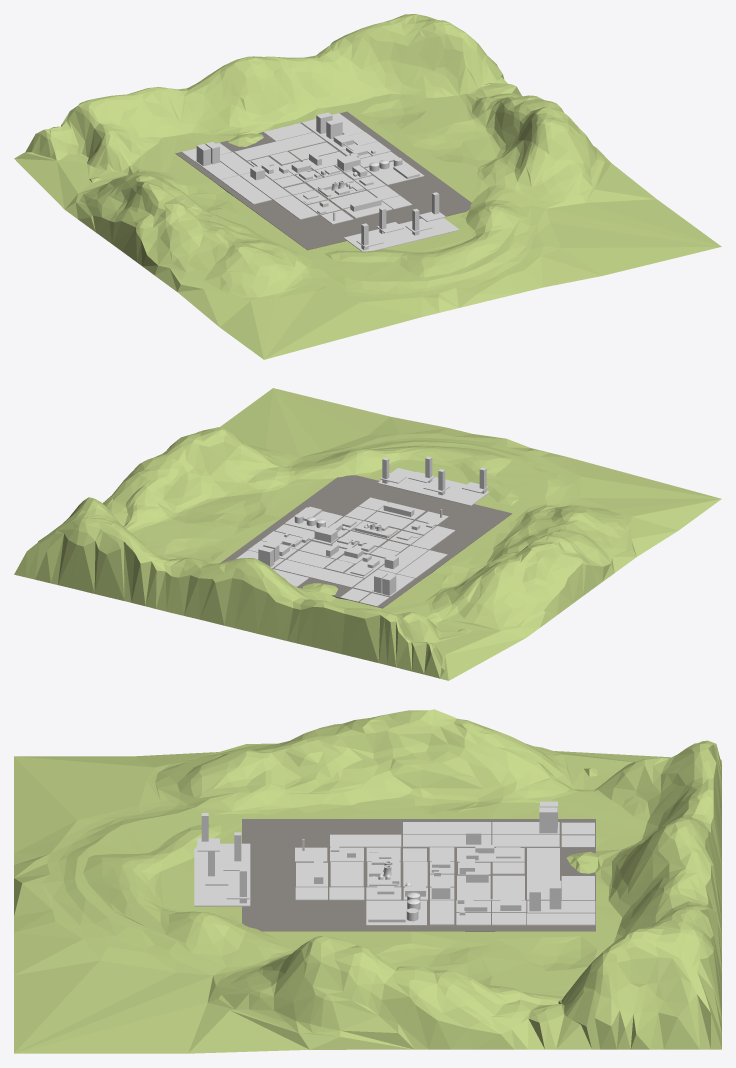
File: Whitebox City and Terrain.FBX
3 renders of one model, top to bottom at view 1: azimuth 30°, elevation 25°; view 2: azimuth 150°, elevation 25°; view 3: azimuth 270°, elevation 25°, orthographic. The views are drawn at different scales.
Parts seen in each view (by area): view 1: World Terrain, CITY-GROUND, LAUNCH COMPLEX, Box006, Box009, Box010; view 2: World Terrain, CITY-GROUND, LAUNCH COMPLEX, Box006, Box009, Box011, Box010, Box031; view 3: World Terrain, CITY-GROUND, LAUNCH COMPLEX, Box006, Box009, Box010, Box011, Box012, Box007, Box005, Box031, Box003 (+7 smaller).
Part boxes in pixels (x1=…): World Terrain: x1=14, y1=14, x2=721, y2=359; CITY-GROUND: x1=175, y1=111, x2=471, y2=250; LAUNCH COMPLEX: x1=344, y1=218, x2=459, y2=251; Box006: x1=234, y1=132, x2=325, y2=160; Box009: x1=220, y1=175, x2=271, y2=204; Box010: x1=240, y1=172, x2=290, y2=199; World Terrain: x1=14, y1=388, x2=721, y2=680; CITY-GROUND: x1=221, y1=475, x2=512, y2=608; LAUNCH COMPLEX: x1=377, y1=468, x2=489, y2=505; Box006: x1=274, y1=559, x2=363, y2=587; Box009: x1=397, y1=550, x2=447, y2=578; Box011: x1=411, y1=526, x2=455, y2=549; Box010: x1=378, y1=545, x2=428, y2=573; Box031: x1=365, y1=511, x2=413, y2=529; World Terrain: x1=14, y1=709, x2=721, y2=1053; CITY-GROUND: x1=242, y1=819, x2=595, y2=931; LAUNCH COMPLEX: x1=194, y1=843, x2=250, y2=906; Box006: x1=527, y1=848, x2=559, y2=900; Box009: x1=403, y1=822, x2=491, y2=834; Box010: x1=403, y1=834, x2=491, y2=847; Box011: x1=330, y1=834, x2=401, y2=847; Box012: x1=366, y1=900, x2=426, y2=925; Box007: x1=492, y1=834, x2=559, y2=847; Box005: x1=527, y1=913, x2=595, y2=925; Box031: x1=330, y1=862, x2=363, y2=887; Box003: x1=561, y1=876, x2=594, y2=899.
Size of the model in its own units: 10000 by 1430 by 10000.
